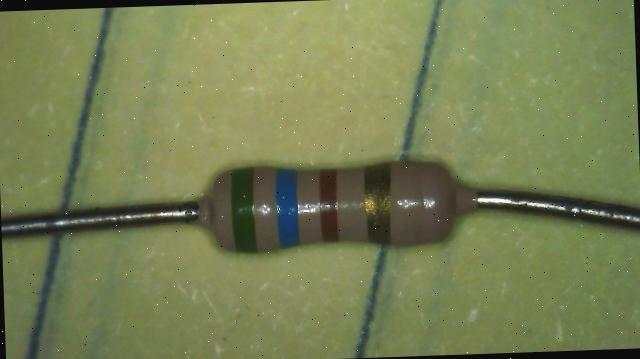blue: (276, 169, 298, 248)
brown: (318, 169, 340, 241)
gold: (363, 162, 392, 245)
green: (230, 166, 258, 254)
resistor: (179, 145, 485, 274)
